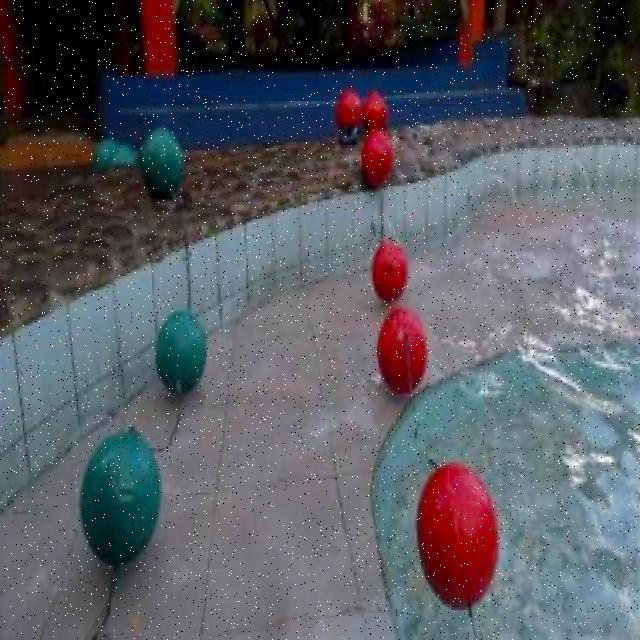buoy: (415, 462, 499, 610), (80, 430, 160, 566), (154, 311, 206, 394), (377, 309, 428, 391), (140, 126, 180, 197), (370, 238, 408, 304), (359, 128, 395, 189), (334, 87, 361, 138), (358, 90, 388, 134)
